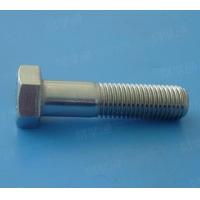screw: (17, 64, 189, 131)
